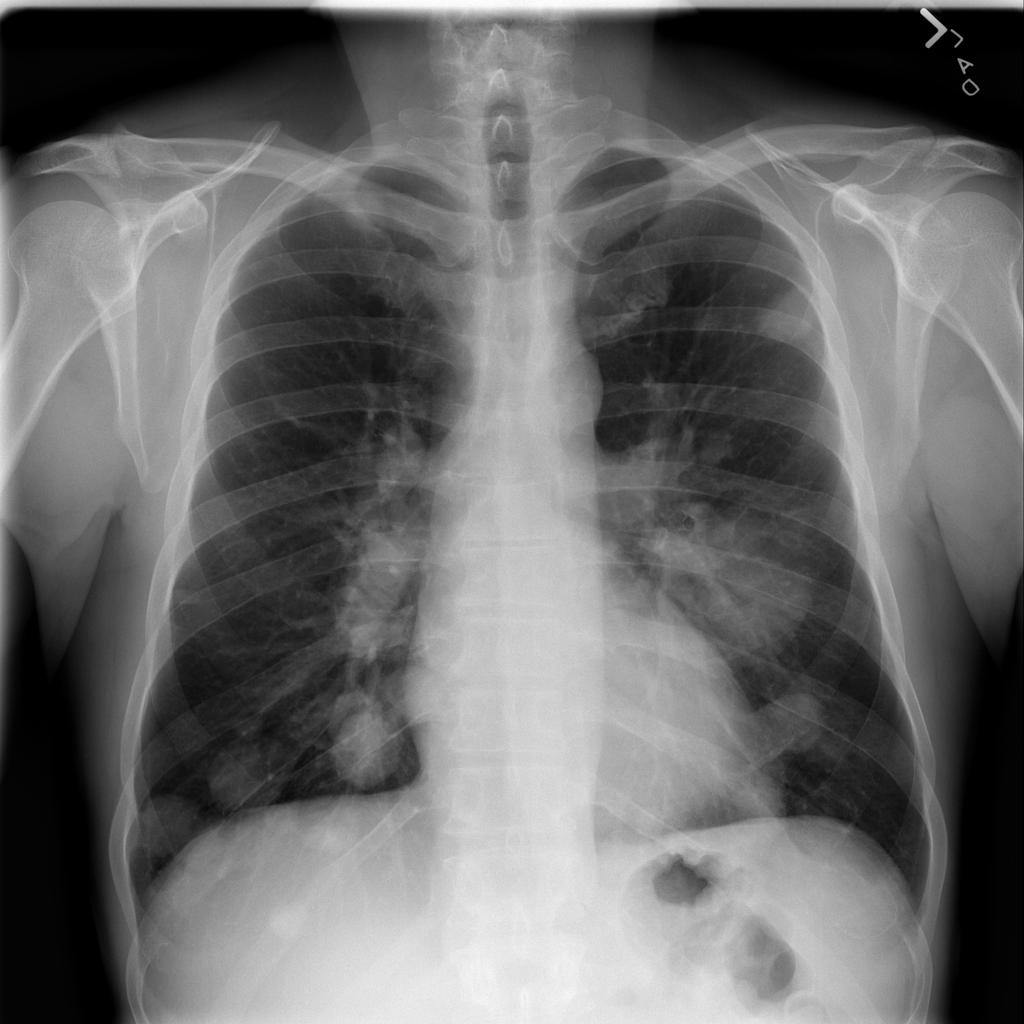nodule: (619, 493, 825, 685), (187, 716, 297, 827), (120, 777, 230, 886), (313, 688, 417, 801), (744, 673, 848, 772), (743, 277, 828, 356), (295, 804, 371, 873), (327, 183, 402, 252), (255, 879, 324, 954)
